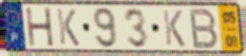3: (123, 7, 150, 50)
9: (92, 6, 118, 50)
B: (188, 7, 221, 50)
H: (24, 6, 56, 48)
K: (55, 7, 81, 48), (161, 8, 187, 49)
